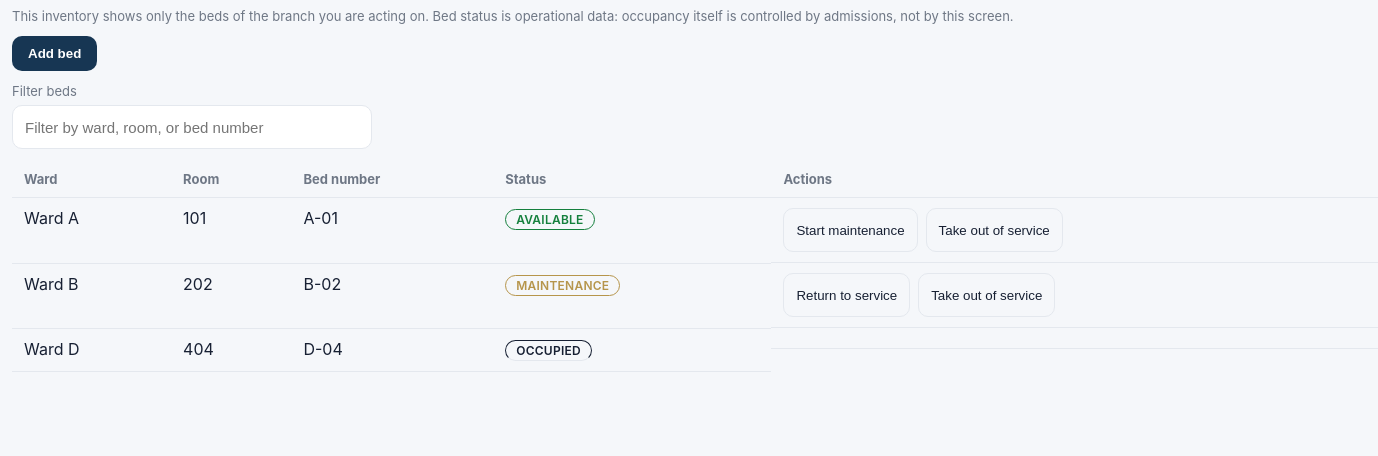
Test case: BedsPage (plan3.md Task 6) › surfaces the transition conflict (409) inline with no partial success
The width and height of the screenshot is (1378, 456).
Click the button "Start maintenance" at (850, 230), box x1=783 y1=208 x2=918 y2=252
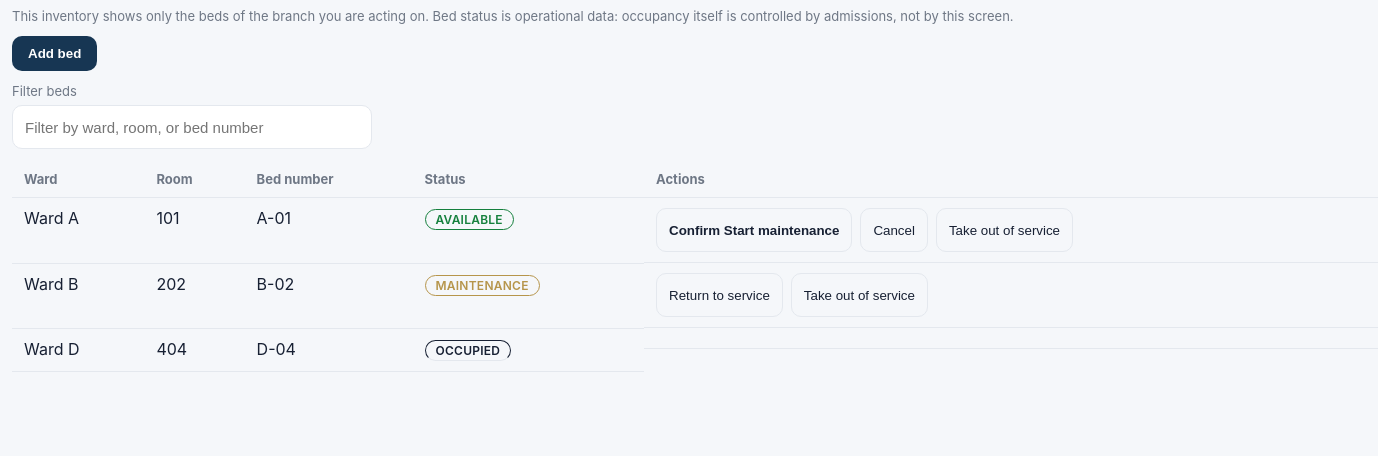
Click the button "Confirm Start maintenance" at (754, 230), box x1=656 y1=208 x2=852 y2=252
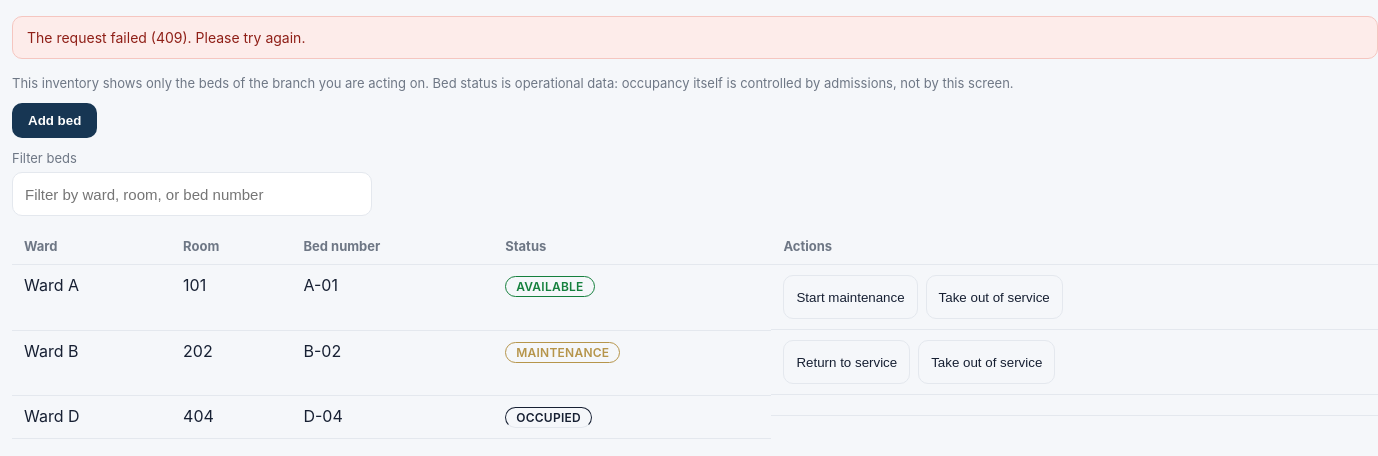
expect the message shows "The request failed (409)": met, box x1=27 y1=29 x2=305 y2=46
